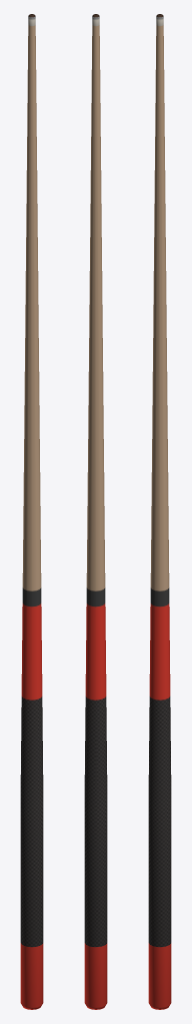
The model's file is poolStick02.dae.
3 renders of one model, left to right at view 1: azimuth 30°, elevation 25°; view 2: azimuth 150°, elevation 25°; view 3: azimuth 330°, elevation 25°, orthographic.
Parts seen in each view (by area): view 1: poolStick02; view 2: poolStick02; view 3: poolStick02.
Part boxes in pixels (box(x1,y1,x2,y2)): poolStick02: box(20, 14, 43, 1009); poolStick02: box(84, 14, 107, 1009); poolStick02: box(148, 14, 171, 1009).
Bounding box in the file's own units: 3.08 × 147 × 3.08.
